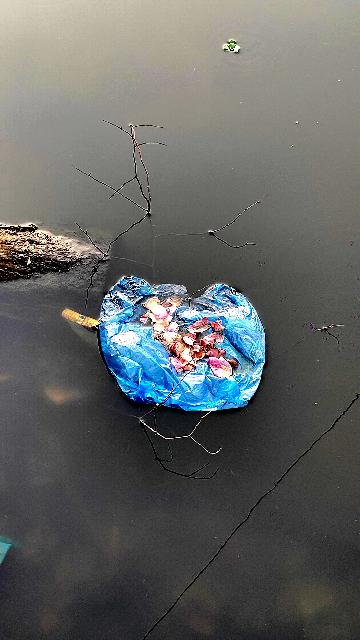polythene: (112, 269, 264, 419)
